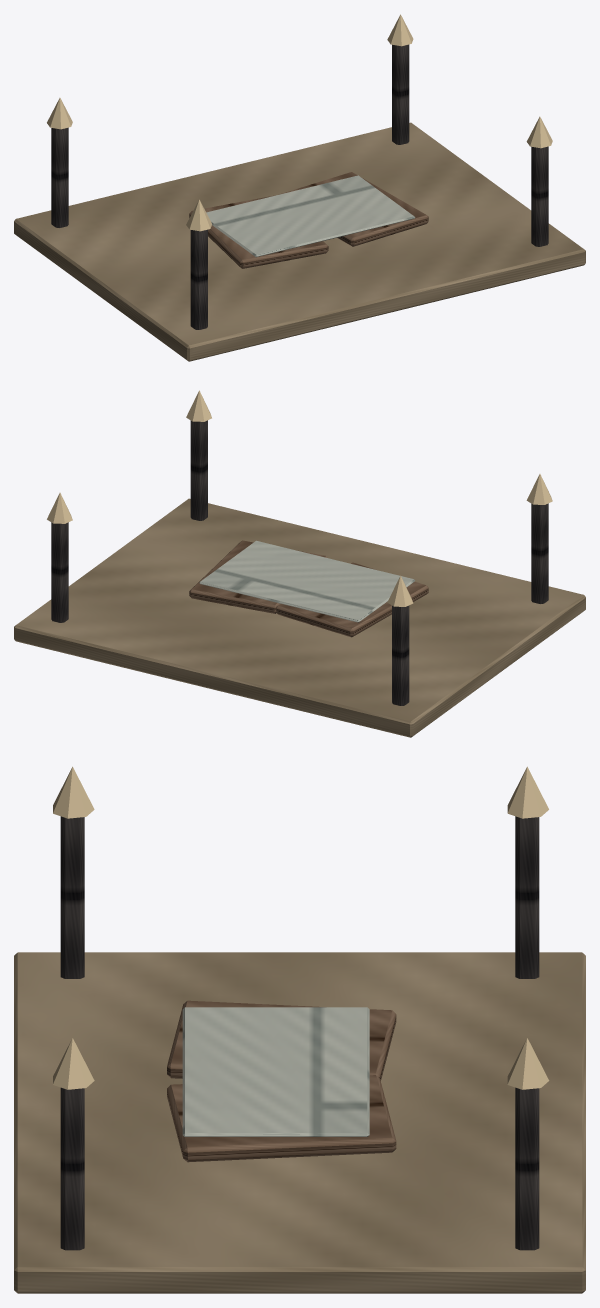
Rendered from ConstructionPlot.glb.
3 views of the same model, one above another, from view 1: azimuth 30°, elevation 25°; view 2: azimuth 150°, elevation 25°; view 3: azimuth 270°, elevation 25° (orthographic). The views are drawn at different scales.
Visible parts, largest first — view 1: Staked plot plinth, Plan parchment, Folded plan board, Oak survey stake.002, Oak survey stake.003, Oak survey stake.001, Oak survey stake, Folded plan board.001, Stake tip.002, Stake tip, Stake tip.001, Stake tip.003; view 2: Staked plot plinth, Plan parchment, Folded plan board, Oak survey stake.003, Oak survey stake.002, Oak survey stake, Oak survey stake.001, Folded plan board.001, Stake tip.001, Stake tip.003, Stake tip.002, Stake tip; view 3: Staked plot plinth, Plan parchment, Folded plan board.001, Oak survey stake.002, Oak survey stake.003, Oak survey stake.001, Oak survey stake, Folded plan board, Stake tip.003, Stake tip.001, Stake tip.002, Stake tip.
Boxes of the visible parts, left/top/right/bottom form: Staked plot plinth: left=14, top=122, right=585, bottom=361; Plan parchment: left=206, top=175, right=415, bottom=257; Folded plan board: left=189, top=195, right=328, bottom=268; Oak survey stake.002: left=531, top=146, right=548, bottom=246; Oak survey stake.003: left=392, top=44, right=409, bottom=144; Oak survey stake.001: left=51, top=127, right=68, bottom=227; Oak survey stake: left=190, top=229, right=207, bottom=329; Folded plan board.001: left=278, top=172, right=428, bottom=246; Stake tip.002: left=526, top=116, right=552, bottom=148; Stake tip: left=186, top=199, right=211, bottom=231; Stake tip.001: left=47, top=98, right=72, bottom=129; Stake tip.003: left=387, top=14, right=413, bottom=46; Staked plot plinth: left=14, top=498, right=585, bottom=737; Plan parchment: left=199, top=540, right=415, bottom=622; Folded plan board: left=276, top=562, right=428, bottom=637; Oak survey stake.003: left=51, top=522, right=68, bottom=622; Oak survey stake.002: left=190, top=420, right=207, bottom=520; Oak survey stake: left=531, top=503, right=548, bottom=603; Oak survey stake.001: left=392, top=605, right=409, bottom=705; Folded plan board.001: left=189, top=540, right=327, bottom=613; Stake tip.001: left=387, top=575, right=413, bottom=606; Stake tip.003: left=47, top=492, right=72, bottom=523; Stake tip.002: left=186, top=390, right=211, bottom=421; Stake tip: left=526, top=474, right=552, bottom=504; Staked plot plinth: left=14, top=952, right=585, bottom=1293; Plan parchment: left=182, top=1007, right=369, bottom=1136; Folded plan board.001: left=167, top=1075, right=396, bottom=1162; Oak survey stake.002: left=60, top=1087, right=84, bottom=1250; Oak survey stake.003: left=515, top=1087, right=539, bottom=1250; Oak survey stake.001: left=515, top=816, right=539, bottom=978; Oak survey stake: left=60, top=816, right=84, bottom=978; Folded plan board: left=167, top=1000, right=396, bottom=1080; Stake tip.003: left=507, top=1038, right=549, bottom=1089; Stake tip.001: left=507, top=766, right=548, bottom=818; Stake tip.002: left=53, top=1038, right=94, bottom=1089; Stake tip: left=53, top=766, right=94, bottom=818.
Bounding box in the file's own units: 4.1 × 1.41 × 3.12.
5 materials, 4 textured.
